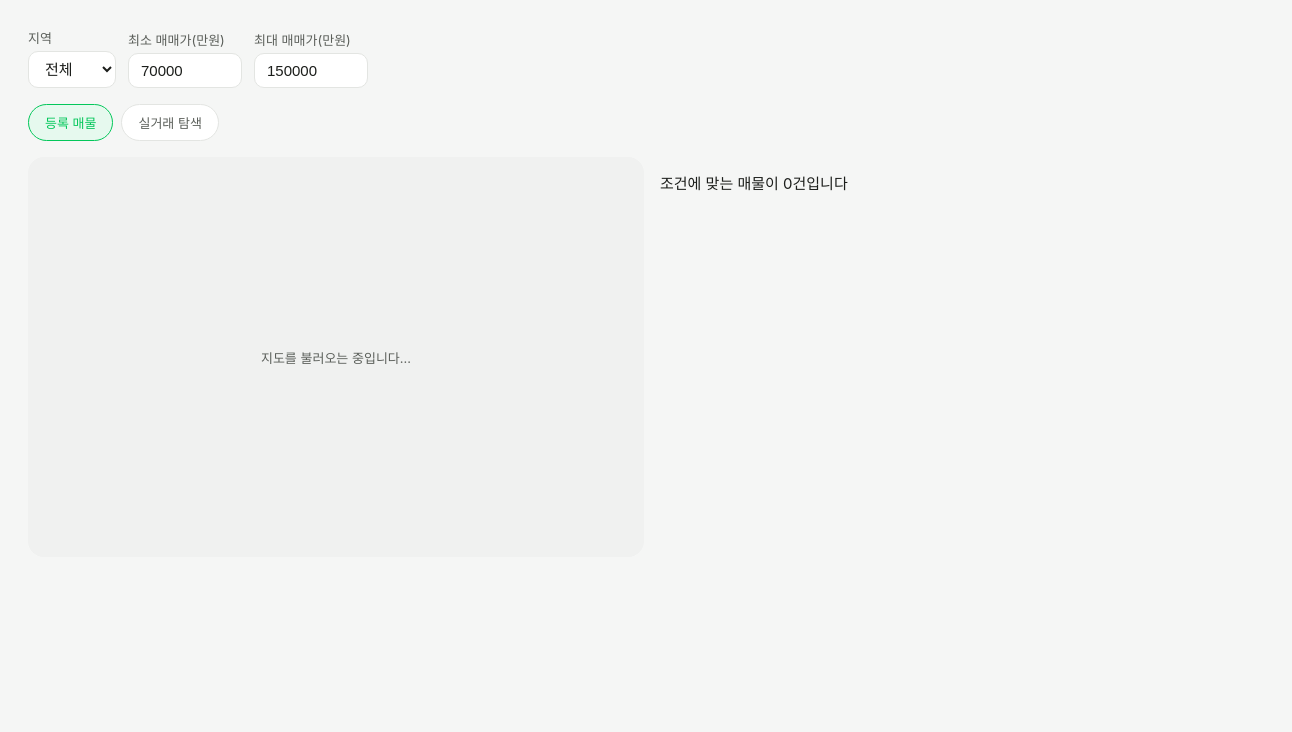
ListingSearchScreen › 같은 단지의 실시간 매물은 하나의 그룹으로 묶이고, 펼치기 전에는 개별 매물 카드가 보이지 않는다
Click the button "실거래 탐색".
click(170, 122)  # box [122, 104, 219, 141]
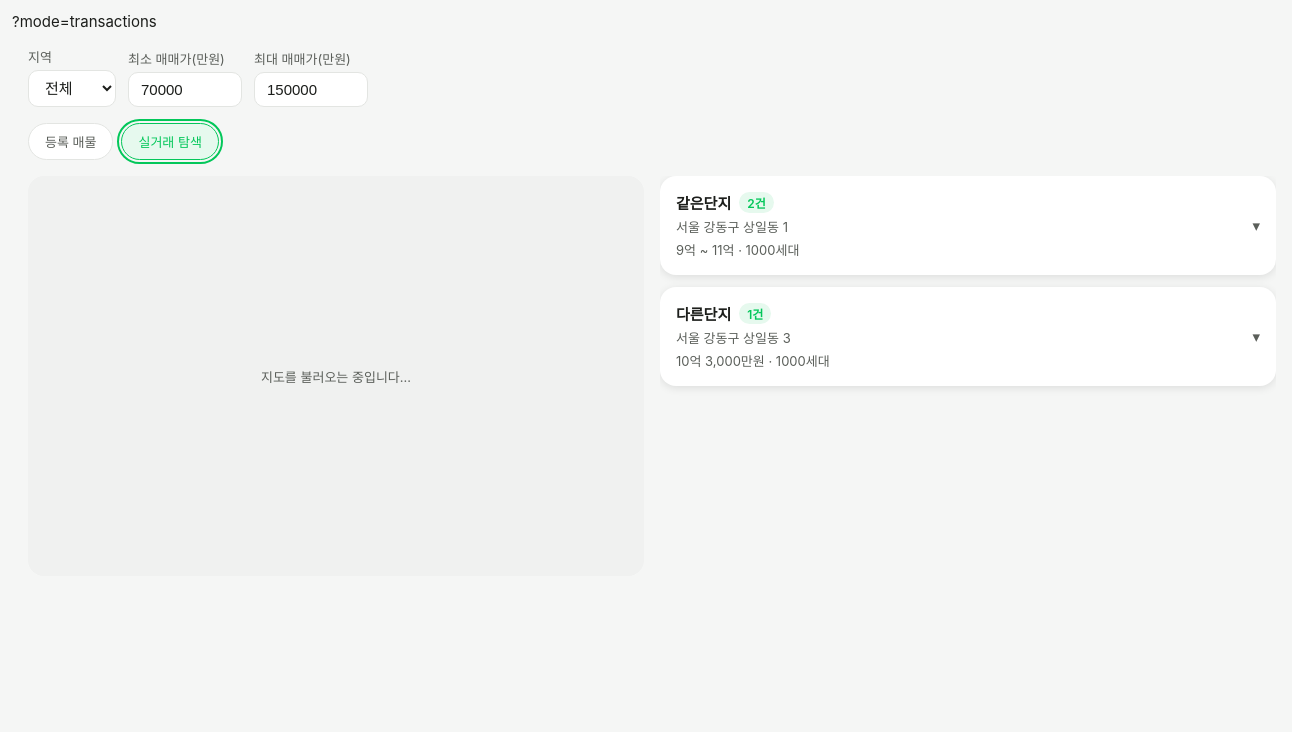
Expected: the text "같은단지" is shown once, [676, 192, 731, 213]
Expected: the text "2건" is shown, [739, 192, 774, 213]
Click the button with class "recent-transaction-group__header" that starts with "같은단지".
click(704, 204)  # box [660, 176, 1276, 275]
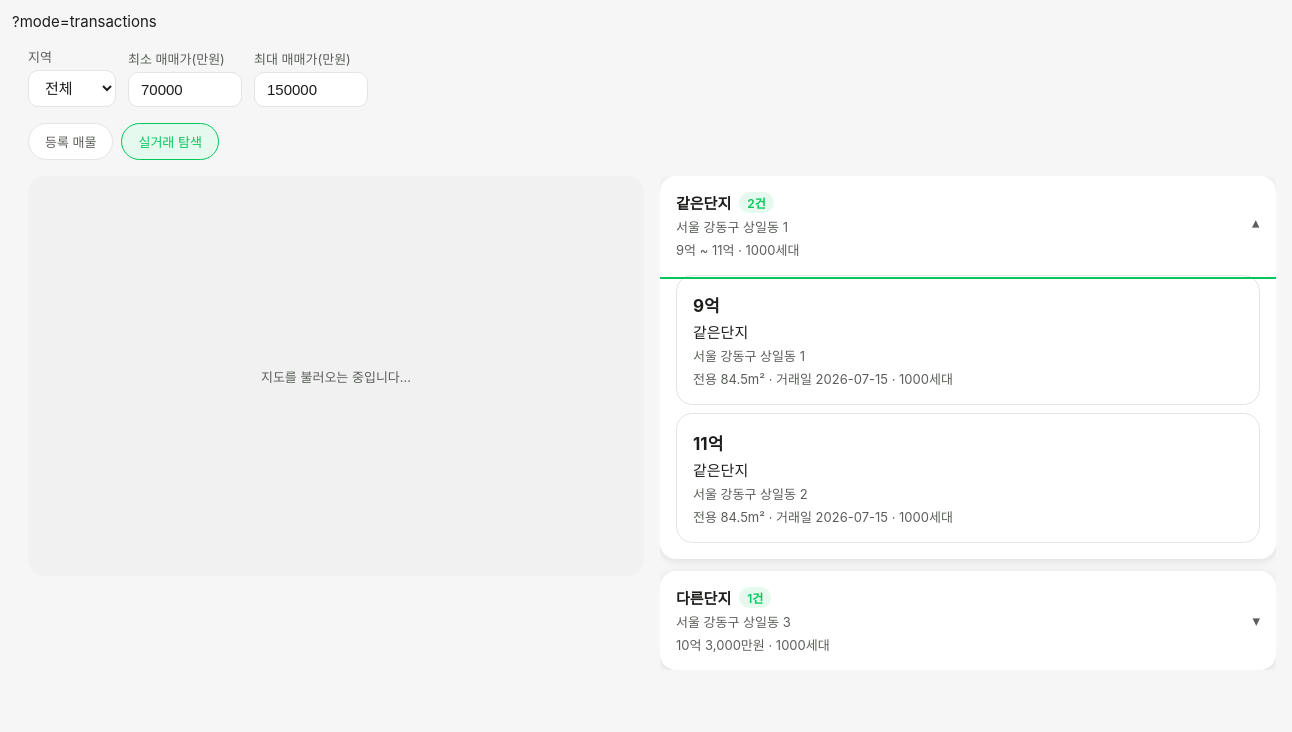
Expected: the number of elements with class "listing-card" is 2, [676, 275, 1260, 405]; [676, 413, 1260, 543]
